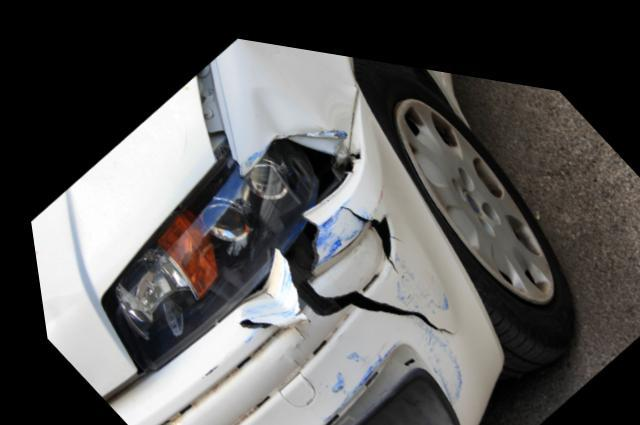crack: (271, 205, 446, 320), (337, 194, 399, 257), (230, 311, 267, 321)
dent: (236, 30, 355, 126), (34, 296, 68, 339)
dislocated part: (24, 50, 235, 398)
scratch: (312, 327, 389, 413), (407, 309, 453, 387), (389, 238, 440, 300), (311, 194, 357, 254)
